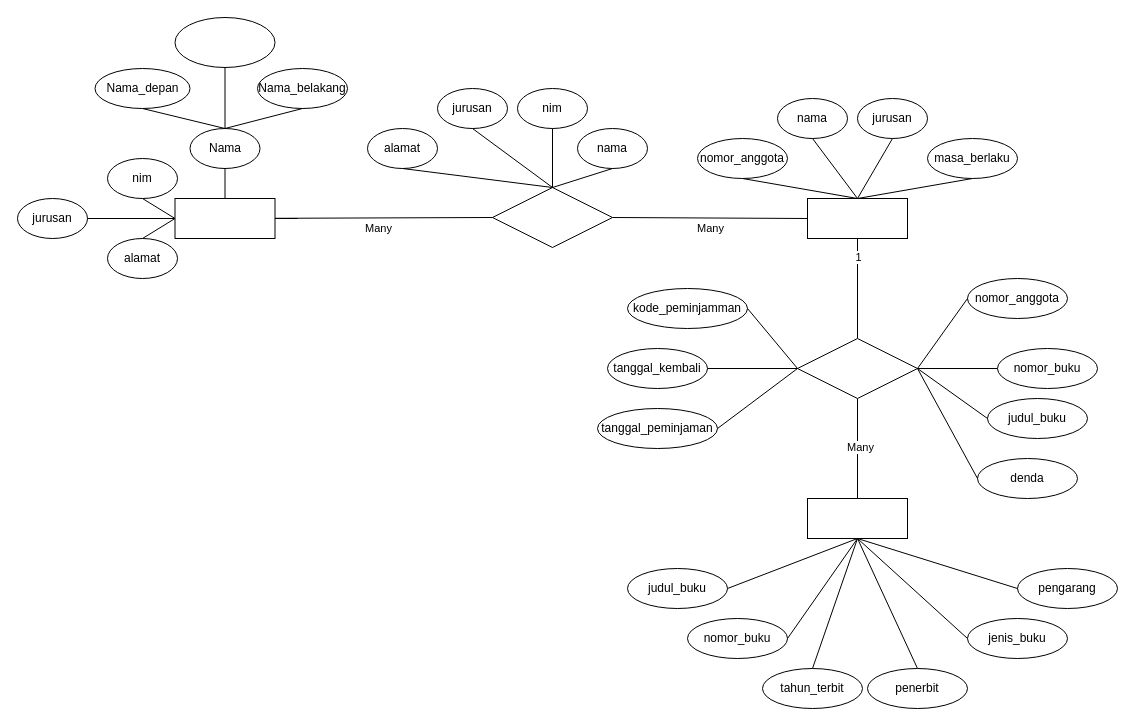
The diagram is 1135 pixels wide and 726 high, and some of its shapes have lost their labels. Each missing label, with the centre of its shape:
Anggota Perpustakan: (x=857, y=218)
buku: (x=857, y=518)
Mahasiswa: (x=224, y=218)
meminjam: (x=857, y=368)
Mendaftar: (x=552, y=217)
Nama_tengah: (x=224, y=42)
